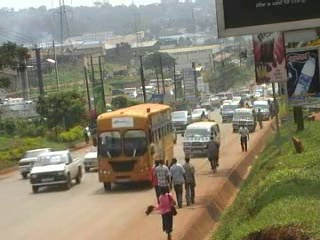Car: (15, 145, 58, 181), (170, 109, 195, 135), (83, 144, 98, 173), (189, 105, 207, 123), (198, 101, 217, 113)
